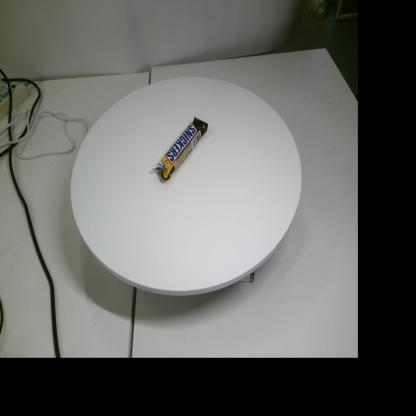Chocolate: (152, 116, 208, 180)
